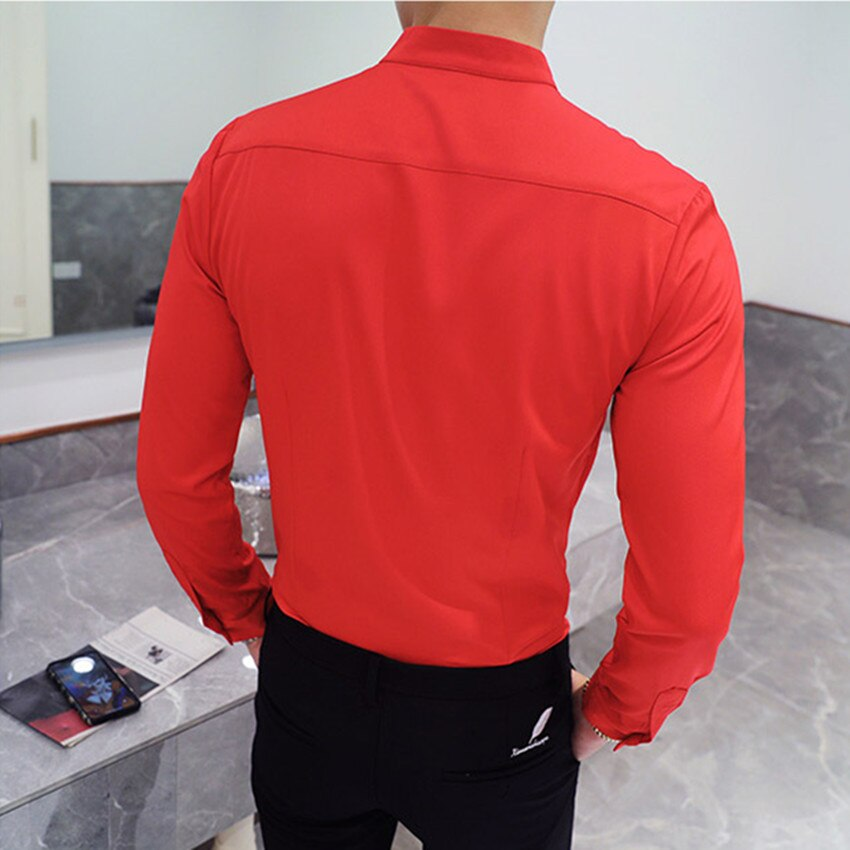shirts: (142, 25, 748, 709)
